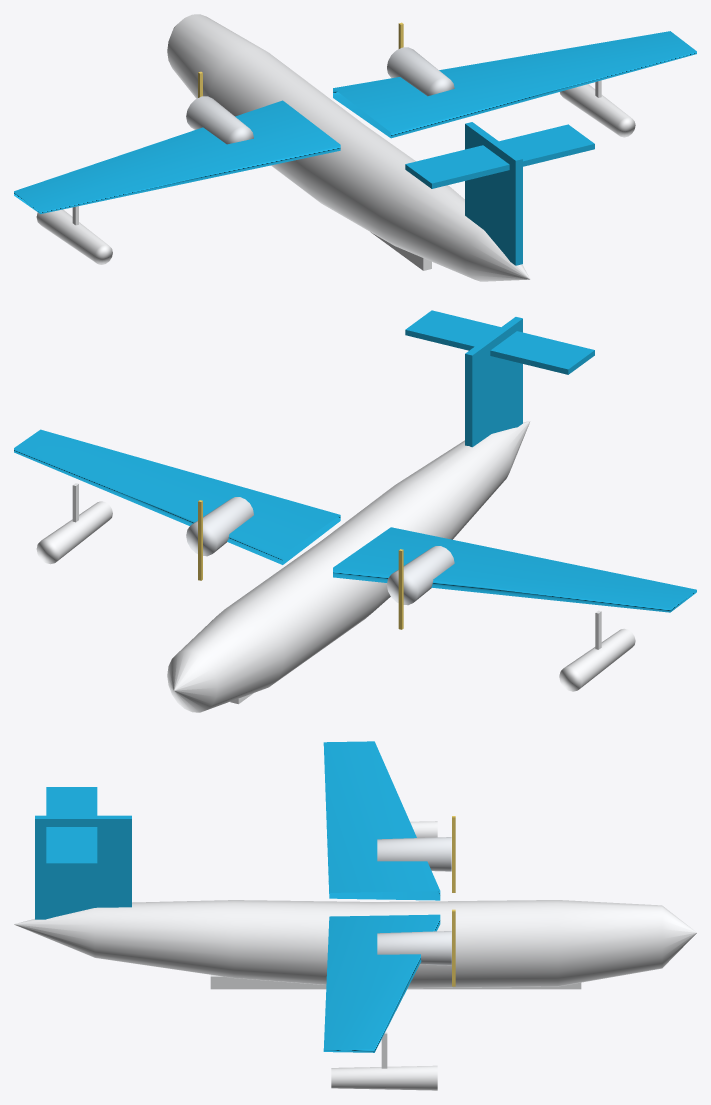
File: amphibian.glb
3 views of the same model, one above another, from view 1: azimuth 30°, elevation 25°; view 2: azimuth 150°, elevation 25°; view 3: azimuth 270°, elevation 25° (orthographic). The views are drawn at different scales.
Visible parts, largest first — view 1: HighWings, BoatFuselage, TailSection, Turboprops; view 2: HighWings, BoatFuselage, TailSection, Turboprops; view 3: BoatFuselage, HighWings, TailSection, Turboprops.
Boxes of the visible parts, x1,y1,x2,y2 form: HighWings: (14,31,696,264); BoatFuselage: (167,14,530,281); TailSection: (405,122,594,265); Turboprops: (186,22,454,144); HighWings: (14,429,696,691); BoatFuselage: (167,421,530,712); TailSection: (405,310,594,447); Turboprops: (186,497,454,629); BoatFuselage: (14,900,696,989); HighWings: (323,741,440,1090); TailSection: (35,787,131,919); Turboprops: (377,816,455,986).
Size of the model in its own units: 31.4 by 8.1 by 29.5.
